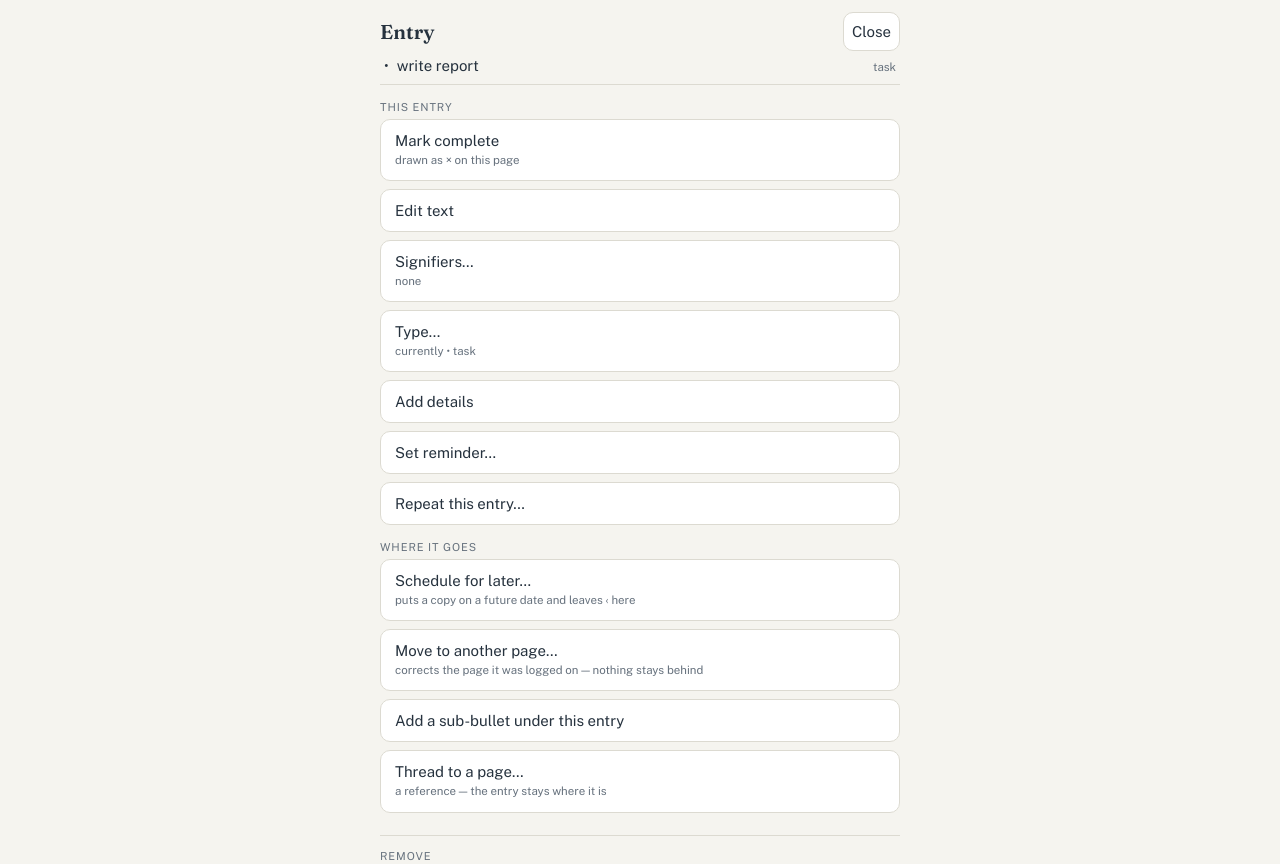
Test case: thread picker sub-view › says so plainly when nothing matches
The width and height of the screenshot is (1280, 864).
Step 1. Click the button "Thread to a page… a reference — the entry stays where it is" → (459, 772), box [380,750,900,813]
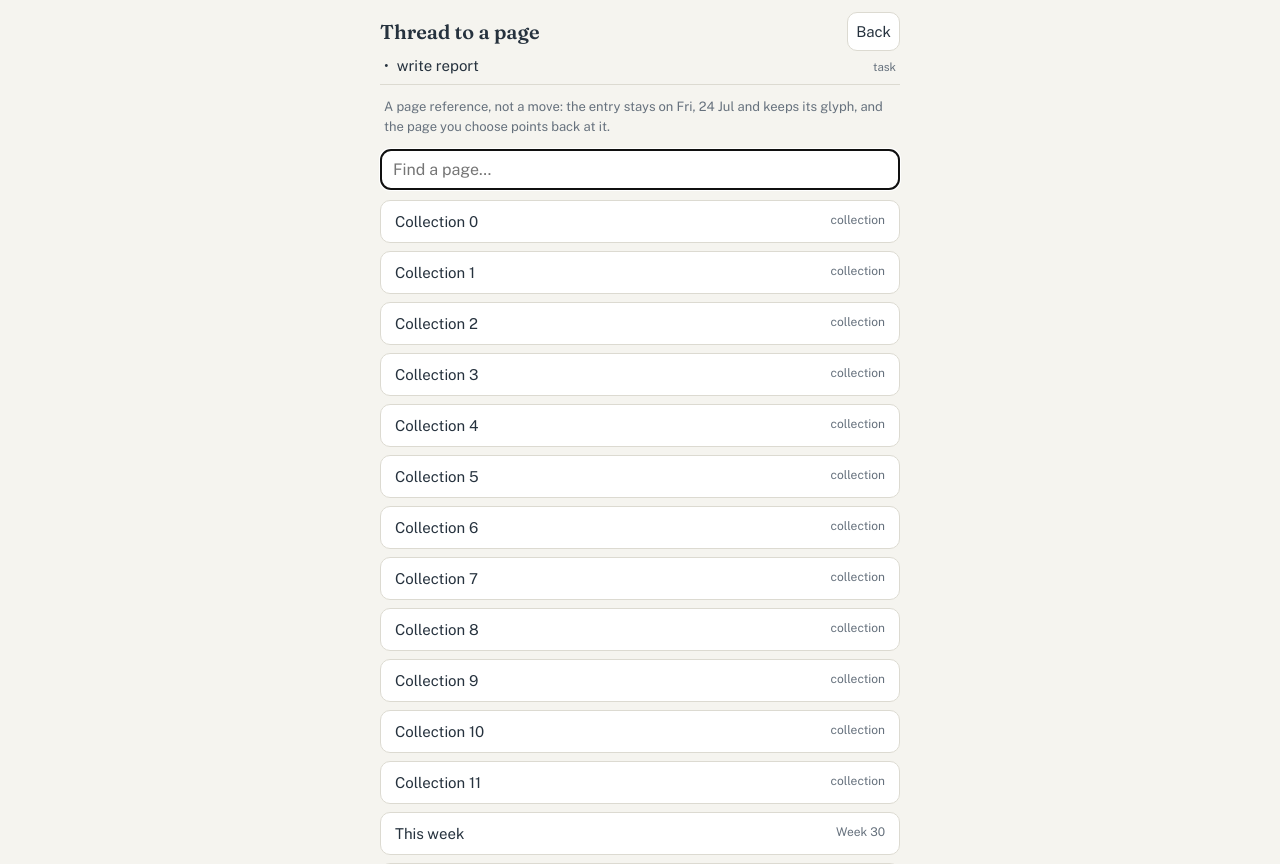
Step 2. Type "zzz" into the field labelled "Find a page" → (640, 170), box [380,149,900,190]
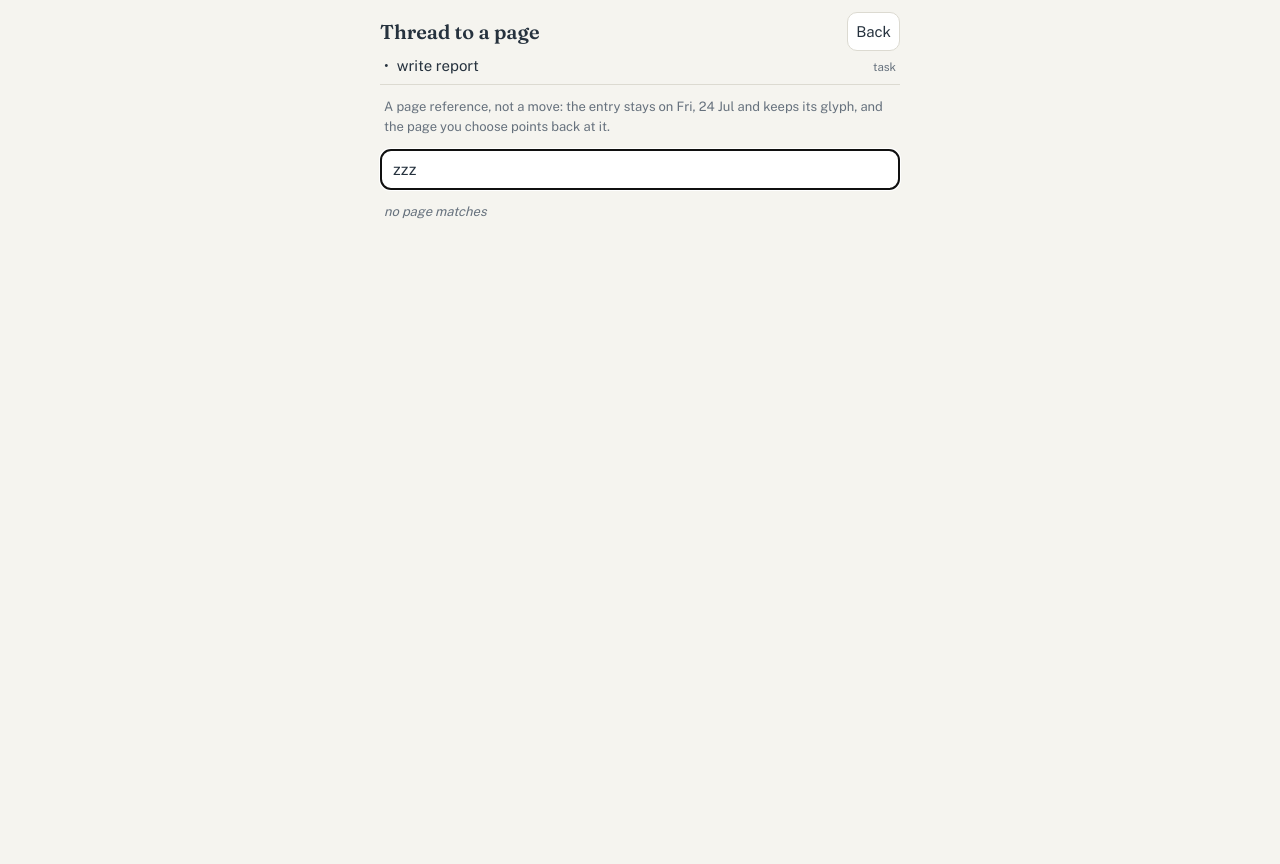
Now the text "no page matches" is shown, box [384,204,486,219]
